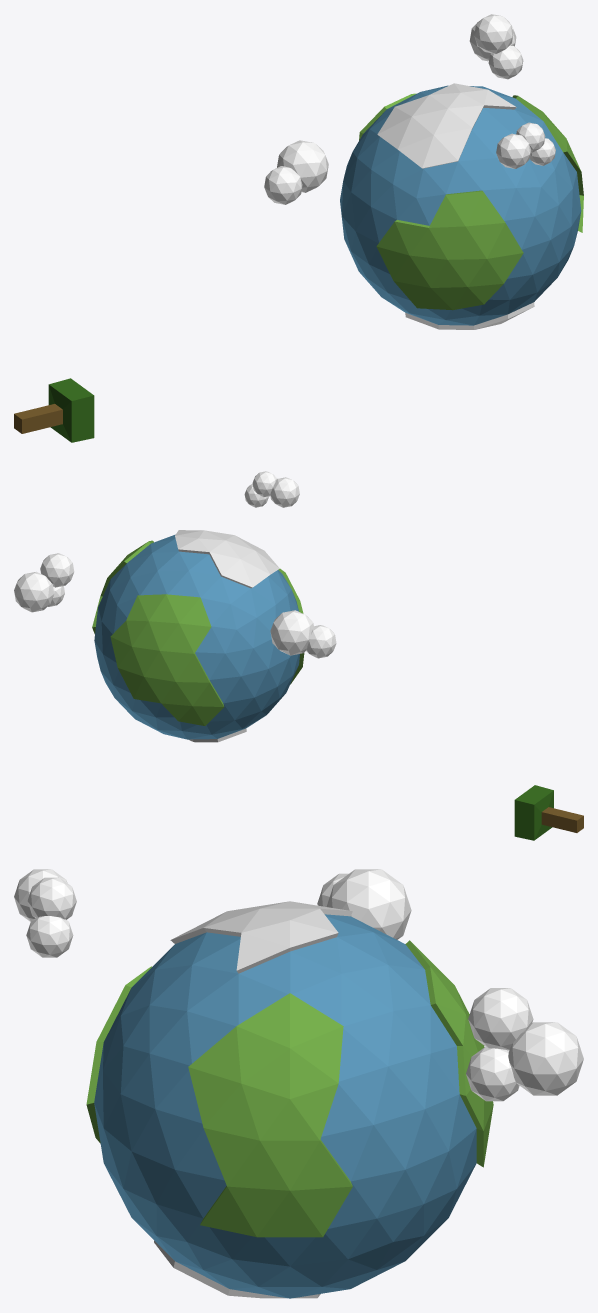
The model's file is Planet.glb.
3 views of the same model, one above another, from view 1: azimuth 30°, elevation 25°; view 2: azimuth 150°, elevation 25°; view 3: azimuth 270°, elevation 25° (orthographic). The views are drawn at different scales.
Visible parts, largest first — view 1: Icosphere, Icosphere.001, Plane; view 2: Icosphere, Icosphere.001, Plane; view 3: Icosphere, Icosphere.001.
Boxes of the visible parts, x1,y1,x2,y2 form: Icosphere: (340, 83, 583, 329); Icosphere.001: (264, 14, 555, 204); Plane: (14, 378, 94, 442); Icosphere: (92, 530, 304, 742); Icosphere.001: (14, 471, 336, 658); Plane: (514, 785, 583, 840); Icosphere: (86, 901, 493, 1298); Icosphere.001: (14, 869, 583, 1101).
Bounding box in the file's own units: 18.88 × 8.44 × 10.06.
